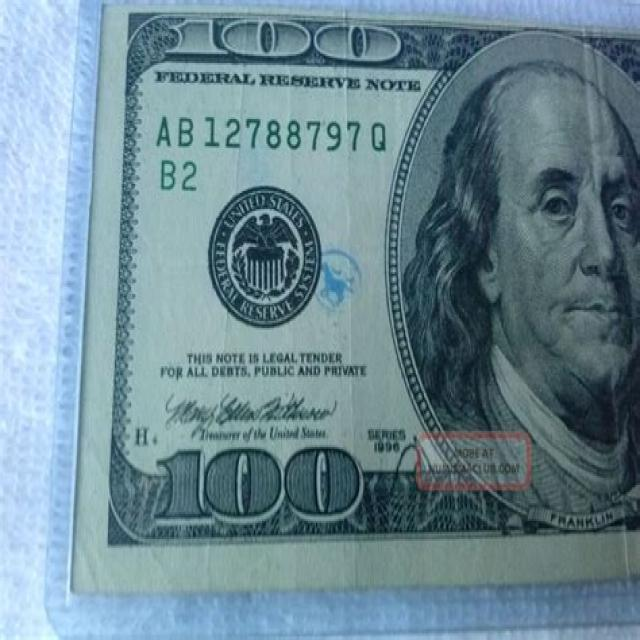Hundred: (86, 6, 640, 595)
